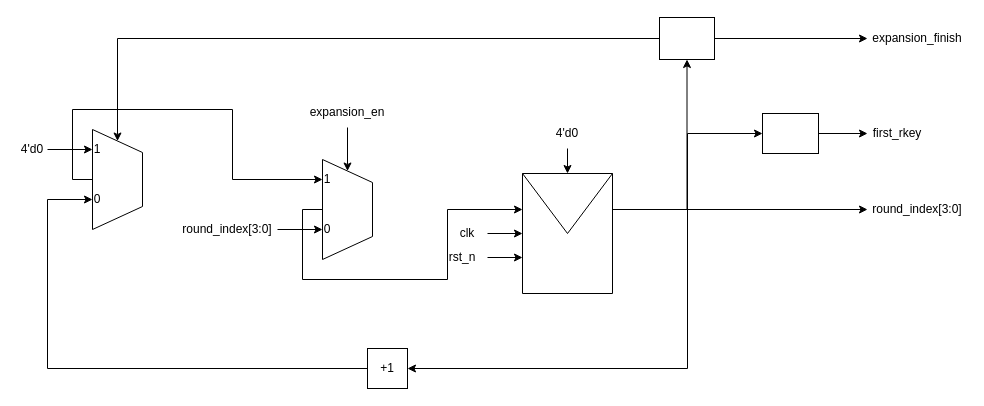
This 984x406 diagram has some shape labels left out. Each missing label, with the box of its shape:
== 4'd0 ?: (762, 112, 818, 154)
== 4'd9 ?: (658, 16, 714, 60)
